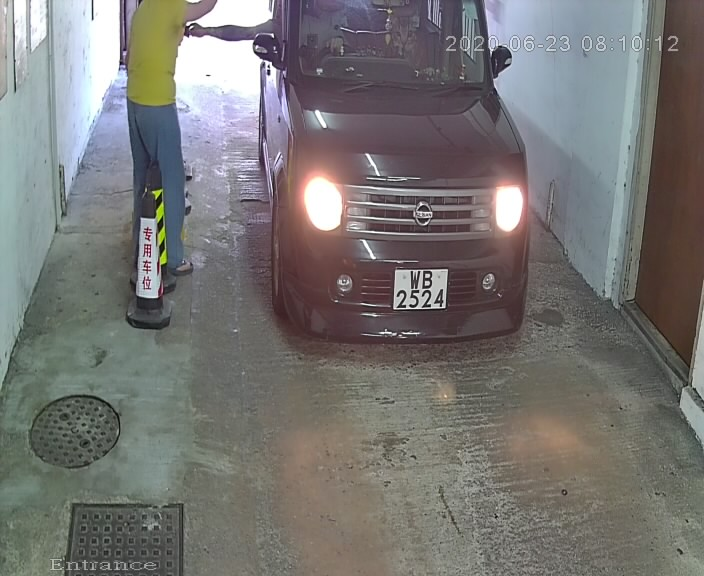privatecar: (227, 1, 557, 377)
